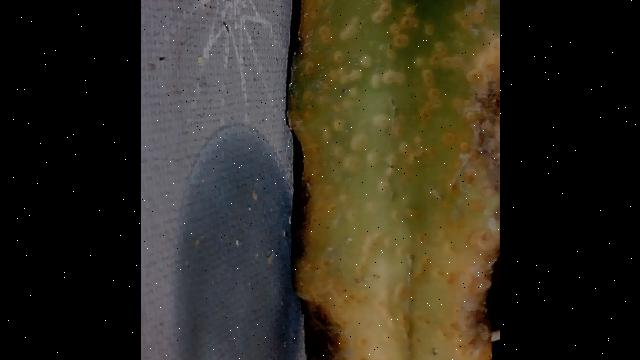stemcanker: (303, 1, 368, 62), (301, 134, 385, 176), (415, 73, 443, 131), (355, 229, 380, 284), (427, 44, 463, 74), (410, 308, 437, 345), (370, 109, 408, 135), (338, 186, 362, 225), (325, 64, 369, 85), (387, 206, 428, 225), (381, 64, 409, 91), (385, 232, 412, 260), (352, 328, 377, 354), (388, 278, 414, 301), (387, 31, 411, 54), (331, 111, 355, 133), (422, 20, 444, 41), (442, 266, 459, 293), (408, 131, 430, 151), (385, 147, 399, 177), (344, 84, 364, 102), (369, 69, 382, 94)
